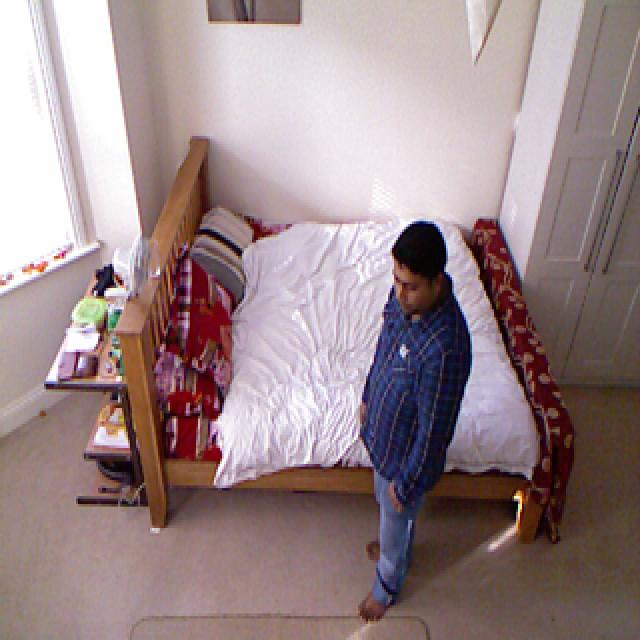standing: (362, 205, 464, 637)
